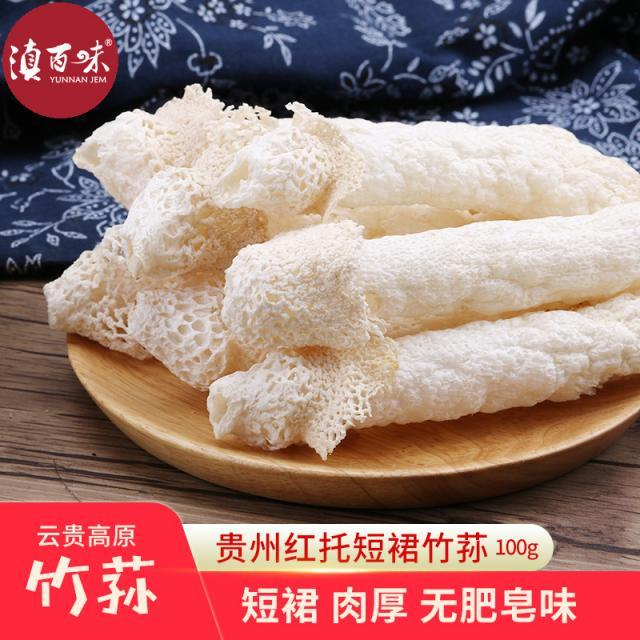Dictyophora indusiate: (190, 295, 640, 448), (225, 217, 640, 345), (208, 107, 640, 217), (126, 164, 261, 267), (34, 236, 148, 350)
